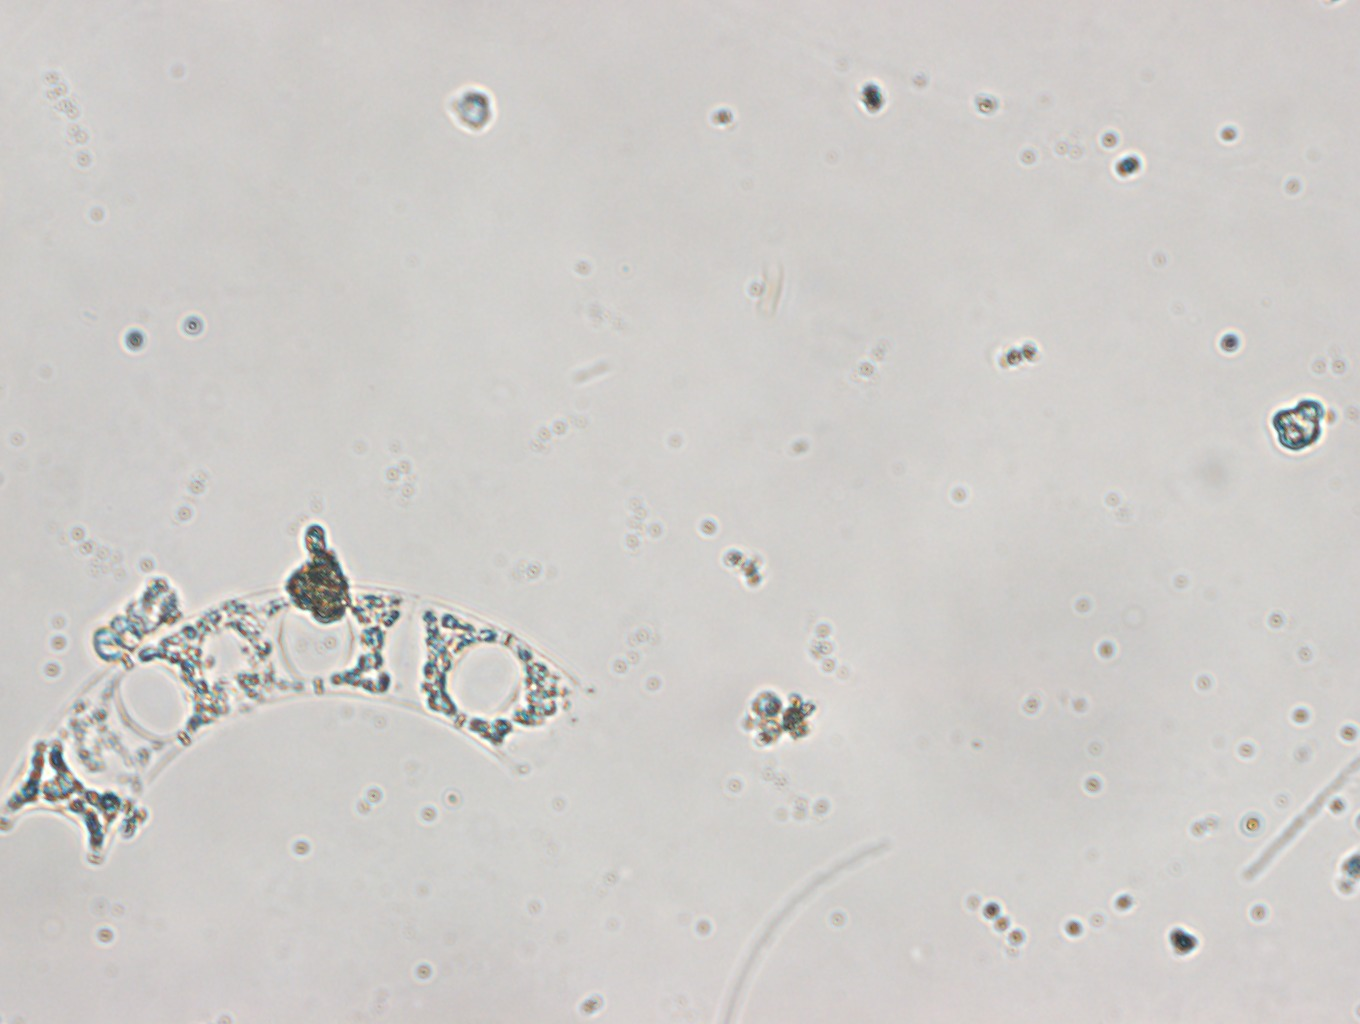eucampia: (1, 585, 575, 865)
